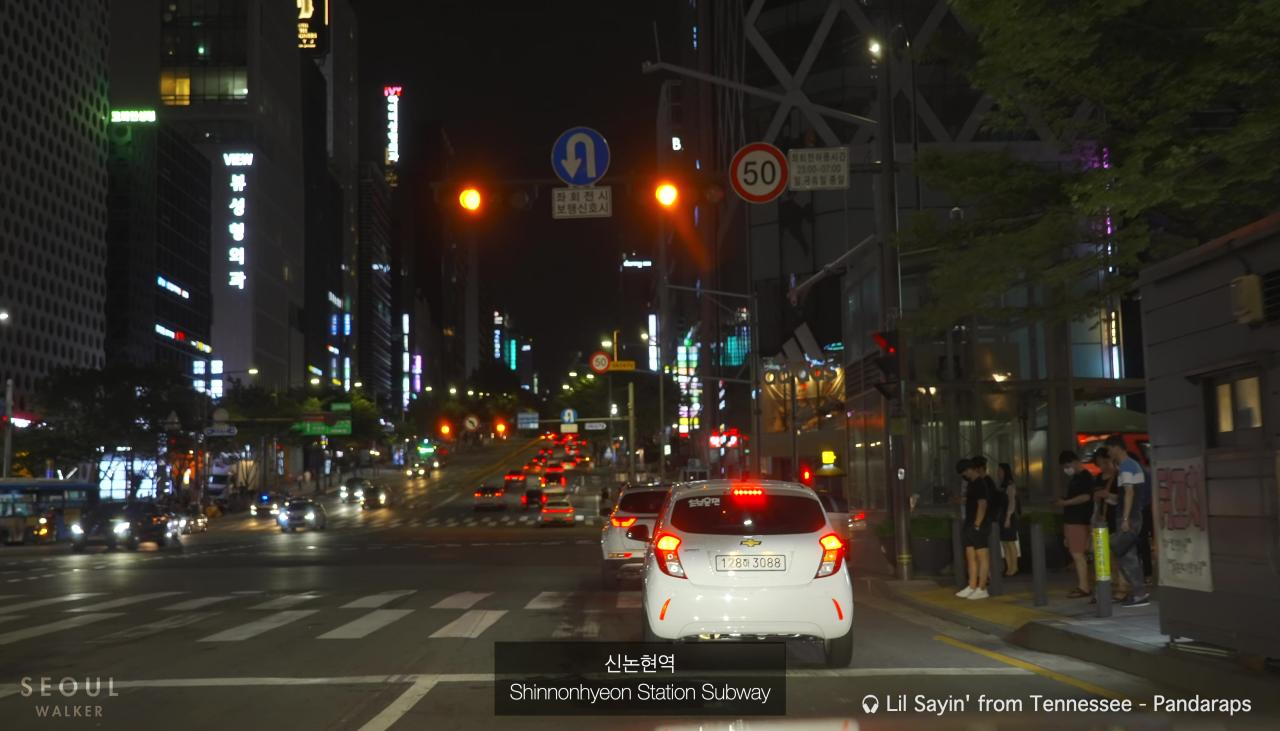Yellow Light: (654, 179, 678, 209), (458, 185, 483, 212)
